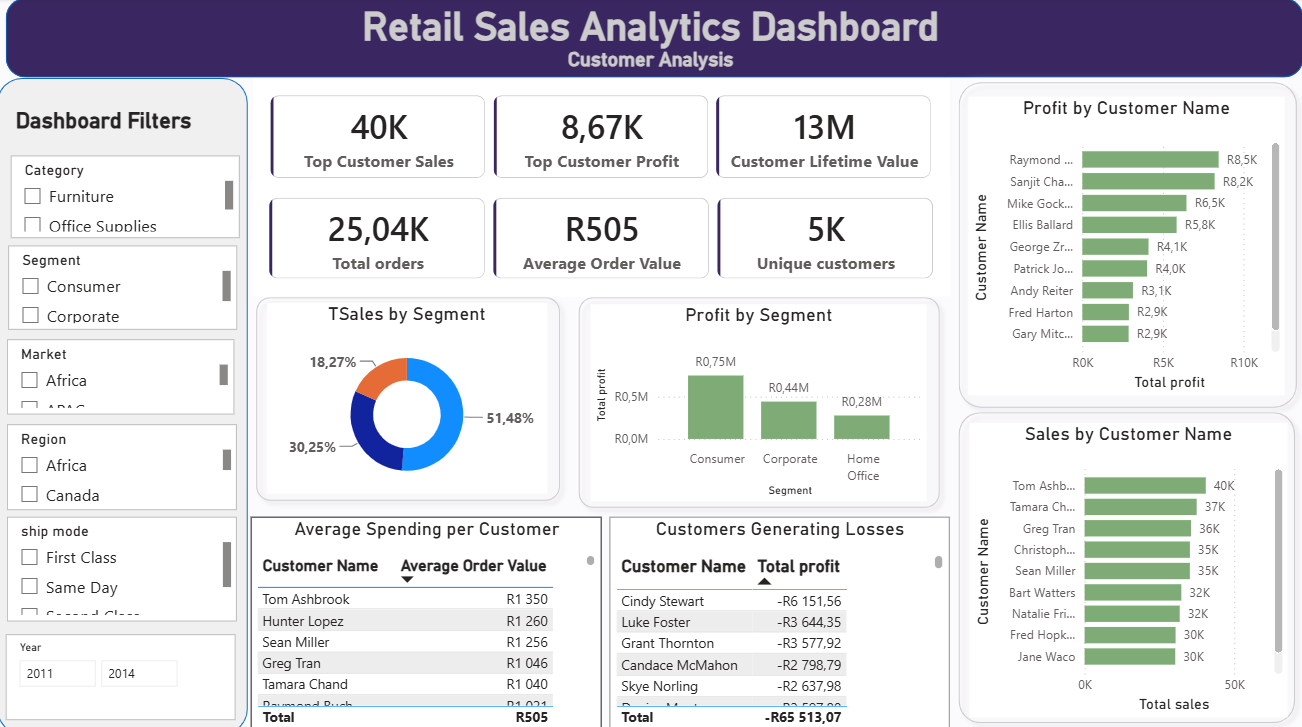

The dashboard page shown, as its layout file describes it:
{"tool":"powerbi","page":{"name":"Customer Analysis","canvas":[1280,720],"ordinal":2},"visuals":[{"type":"shape","box":[8.7,0,1269.6,77.9],"z":0},{"type":"textbox","box":[10.1,0,1259.5,93.8],"z":1000},{"type":"shape","box":[0,77.9,245.3,642],"z":2000},{"type":"slicer","fields":{"Values":["superstore.category"]},"box":[13,154.4,223.6,80.8],"z":3000},{"type":"cardVisual","fields":{"Data":["superstore.Total orders","superstore.Average Order Value","superstore.Unique customers"]},"box":[249.5,178.5,683.4,113.9],"z":4000},{"type":"slicer","fields":{"Values":["superstore.segment"]},"box":[11.5,242.4,223.6,82.2],"z":5000},{"type":"slicer","fields":{"Values":["superstore.market"]},"box":[10.1,333.3,222.2,73.6],"z":6000},{"type":"slicer","fields":{"Values":["superstore.region"]},"box":[10.1,417,225.1,83.7],"z":7000},{"type":"slicer","fields":{"Values":["superstore.ship_mode"]},"box":[10.1,507.9,225.1,102.4],"z":8000},{"type":"slicer","fields":{"Values":["superstore.year"]},"box":[8.7,621.8,225.1,83.7],"z":9000},{"type":"textbox","box":[13,102.4,223.6,50.5],"z":10000},{"type":"shape","box":[932,396.8,347.1,322.1],"z":11000},{"type":"shape","box":[931.3,73.5,348.8,336.4],"z":12000},{"type":"shape","box":[245.1,283.6,315.1,217.1],"z":13000},{"type":"cardVisual","fields":{"Data":["superstore.Top Customer Sales","superstore.Top Customer Profit","superstore.Customer Lifetime Value"]},"box":[251,77.9,681.7,115.7],"z":14000},{"type":"clusteredBarChart","title":"Sales by Customer Name","fields":{"Category":["superstore.Customer Name"],"Y":["superstore.Total sales"]},"box":[950.8,415.5,311.5,288.3],"z":15000},{"type":"clusteredBarChart","title":"Profit by Customer Name","fields":{"Category":["superstore.Customer Name"],"Y":["superstore.Total profit"]},"box":[950.6,96.3,309.9,292.3],"z":16000},{"type":"donutChart","title":"Sales by Segment","fields":{"Category":["superstore.Segment"],"Y":["superstore.Total sales"]},"box":[264,298.7,274.1,186.1],"z":17000},{"type":"shape","box":[560.2,283.6,371.1,224.1],"z":18000},{"type":"clusteredColumnChart","title":" Profit by Segment","fields":{"Category":["superstore.Segment"],"Y":["superstore.Total profit"]},"box":[581.2,299.3,329.1,192.6],"z":19000},{"type":"tableEx","title":"Average Spending per Customer","fields":{"Values":["superstore.Customer Name","superstore.Average Order Value"]},"box":[248.6,507.7,343.1,211.8],"z":20000},{"type":"tableEx","title":"Customers Generating Losses","fields":{"Values":["superstore.Customer Name","superstore.Total profit"]},"box":[598.7,507.7,332.6,211.8],"z":21000}]}

Visuals, with their boxes in screenshot pixels (x1, y1, x2, y2), scaled from the page's 1280x720 canvas onto the 1302x727 screenshot:
shape: pyautogui.locateOnScreen(9, 0, 1300, 79)
textbox: pyautogui.locateOnScreen(10, 0, 1291, 95)
shape: pyautogui.locateOnScreen(0, 79, 250, 726)
slicer - superstore.category: pyautogui.locateOnScreen(13, 156, 241, 237)
cardVisual - superstore.Total orders x superstore.Average Order Value: pyautogui.locateOnScreen(254, 180, 949, 295)
slicer - superstore.segment: pyautogui.locateOnScreen(12, 245, 239, 328)
slicer - superstore.market: pyautogui.locateOnScreen(10, 337, 236, 411)
slicer - superstore.region: pyautogui.locateOnScreen(10, 421, 239, 506)
slicer - superstore.ship_mode: pyautogui.locateOnScreen(10, 513, 239, 616)
slicer - superstore.year: pyautogui.locateOnScreen(9, 628, 238, 712)
textbox: pyautogui.locateOnScreen(13, 103, 241, 154)
shape: pyautogui.locateOnScreen(948, 401, 1301, 726)
shape: pyautogui.locateOnScreen(947, 74, 1301, 414)
shape: pyautogui.locateOnScreen(249, 286, 570, 506)
cardVisual - superstore.Top Customer Sales x superstore.Top Customer Profit: pyautogui.locateOnScreen(255, 79, 949, 195)
"Sales by Customer Name" clusteredBarChart: pyautogui.locateOnScreen(967, 420, 1284, 711)
"Profit by Customer Name" clusteredBarChart: pyautogui.locateOnScreen(967, 97, 1282, 392)
"Sales by Segment" donutChart: pyautogui.locateOnScreen(269, 302, 547, 490)
shape: pyautogui.locateOnScreen(570, 286, 947, 513)
" Profit by Segment" clusteredColumnChart: pyautogui.locateOnScreen(591, 302, 926, 497)
"Average Spending per Customer" tableEx: pyautogui.locateOnScreen(253, 513, 602, 726)
"Customers Generating Losses" tableEx: pyautogui.locateOnScreen(609, 513, 947, 726)
